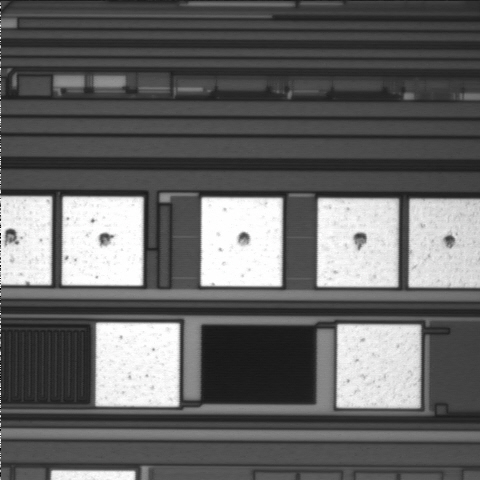pad: (201, 197, 283, 286), (62, 197, 143, 286), (317, 198, 398, 287), (96, 323, 180, 407), (337, 324, 421, 408)
